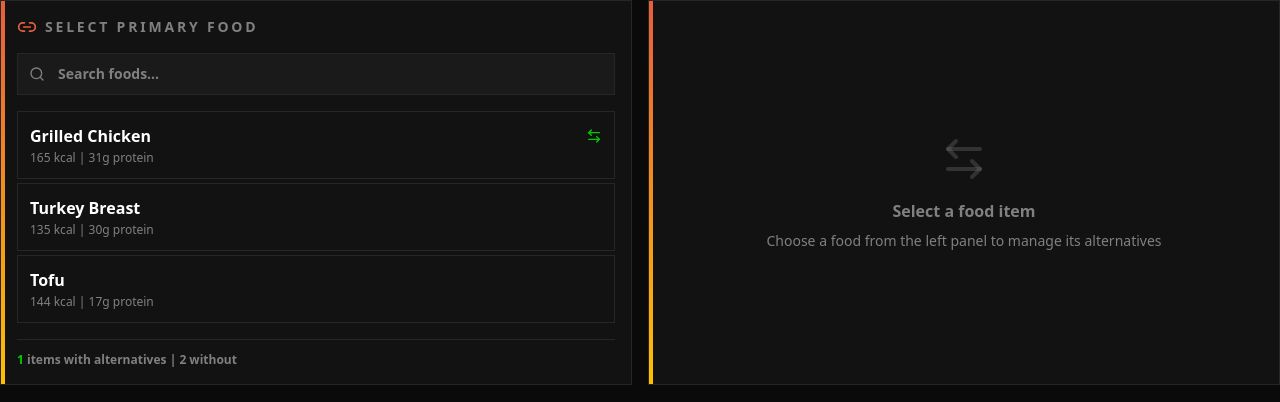
Scenario: AlternativesLinker › filters food items by search
Type "chicken" into the field with placeholder "Search foods...".
click(316, 74); type("chicken")  # box [17,53,615,95]
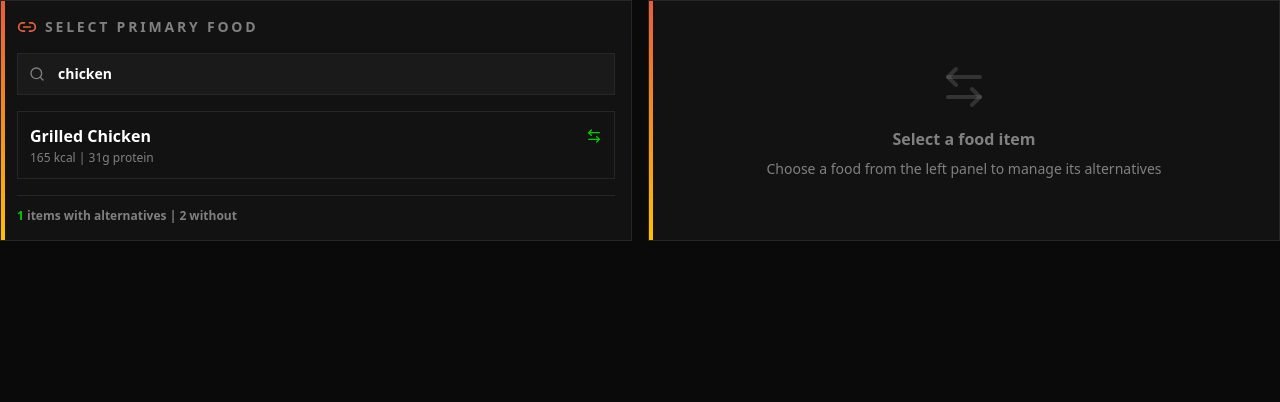
Check: the text "Grilled Chicken" is shown, box [30,124,151,148]
Check: the button "Turkey Breast" is gone
Check: the button "Tofu" is gone
